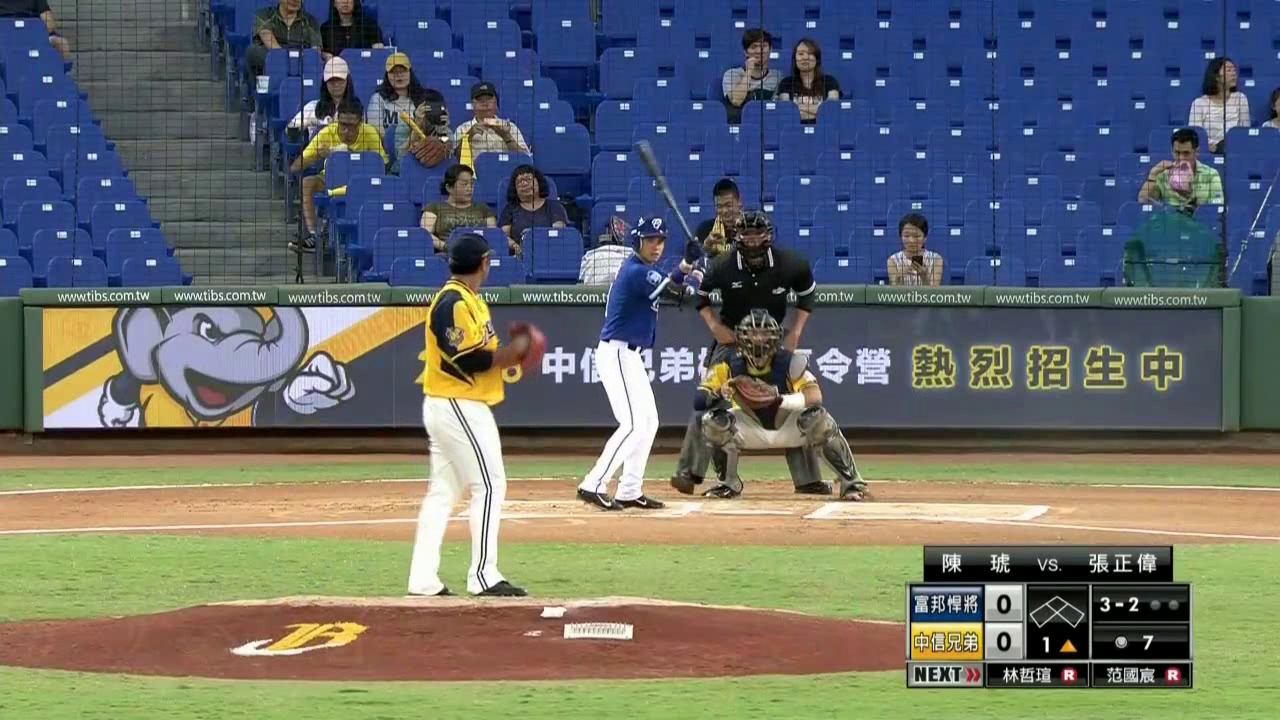ball: (519, 335, 527, 346)
base: (1026, 589, 1084, 636)
bat: (634, 136, 698, 249)
out: (1145, 594, 1183, 616)
score1: (988, 589, 1023, 622)
score2: (985, 626, 1023, 658)
session: (1033, 636, 1084, 657)
strikeball: (1095, 590, 1142, 619)
total: (1107, 630, 1158, 654)
